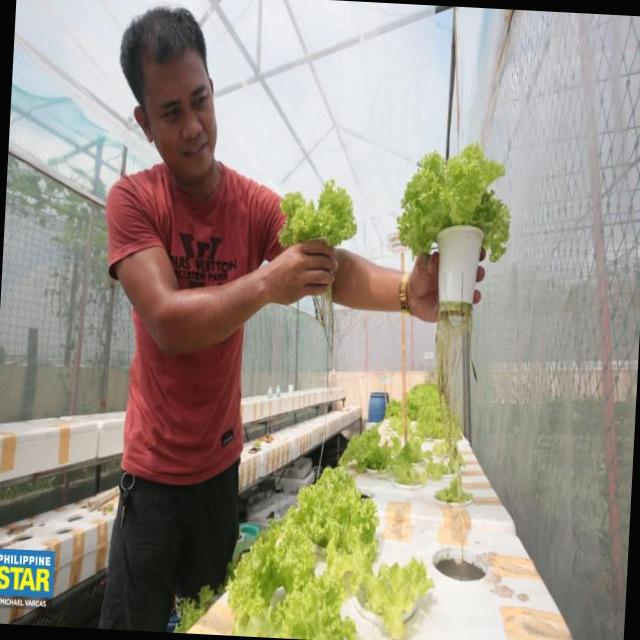Lettuce-Not-Ready-to-Harvest: (326, 541, 433, 640)
Lettuce-Ready-to-Harvest: (396, 145, 510, 261), (228, 525, 316, 636), (293, 467, 378, 554), (264, 572, 358, 640), (280, 181, 357, 247)
